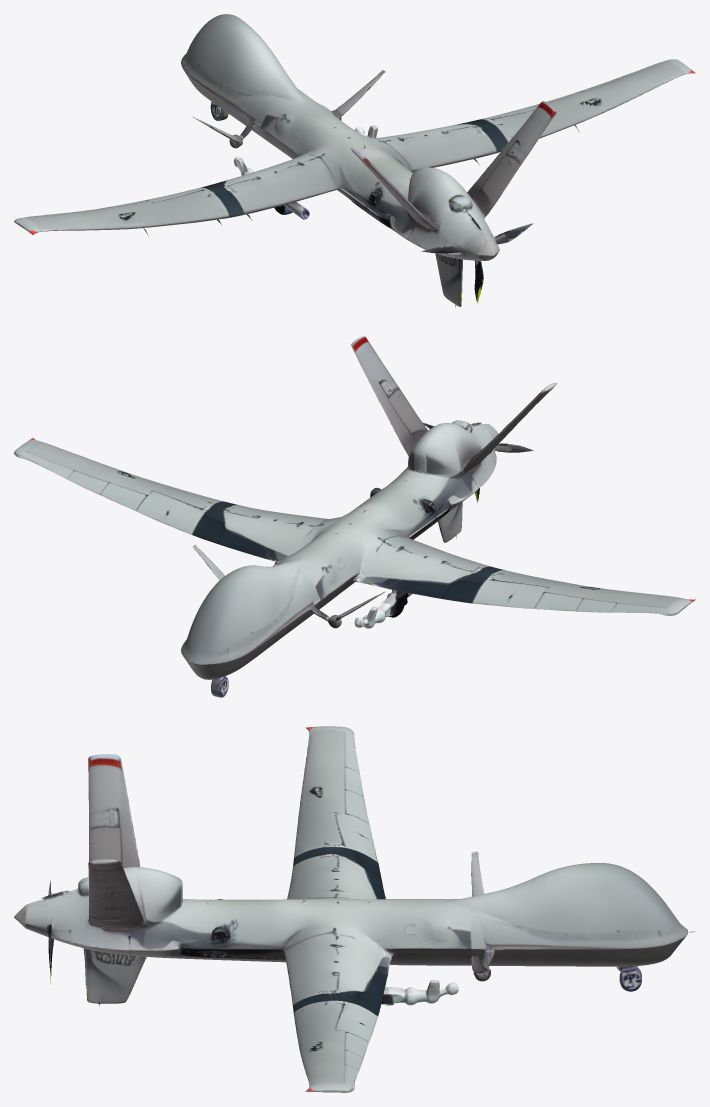
3 views of the same model, one above another, from view 1: azimuth 30°, elevation 25°; view 2: azimuth 150°, elevation 25°; view 3: azimuth 270°, elevation 25° (orthographic). The views are drawn at different scales.
Bounding box in the file's own units: 20 × 5.13 × 15.82.
Materials: 1 (1 with a texture image).
